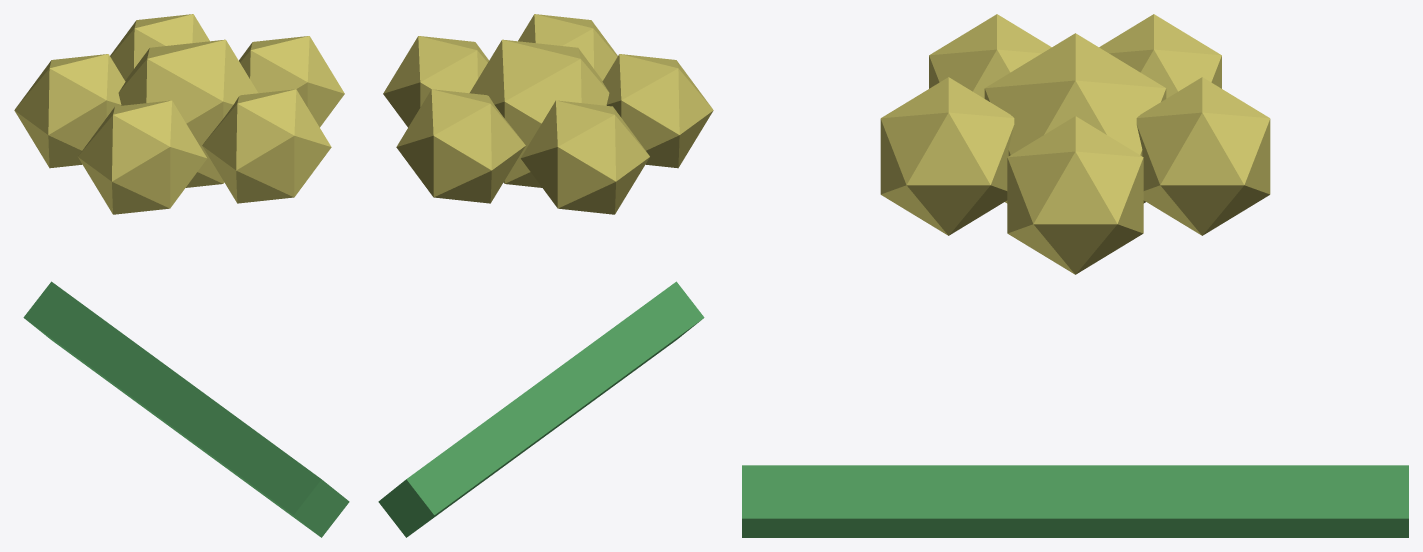
File: flower_yellow.glb
3 renders of one model, left to right at view 1: azimuth 30°, elevation 25°; view 2: azimuth 150°, elevation 25°; view 3: azimuth 270°, elevation 25°, orthographic. The views are drawn at different scales.
Visible parts, largest first — view 1: world; view 2: world; view 3: world.
Part boxes in pixels (<box>): world: <box>14,14,349,537</box>; world: <box>378,14,713,537</box>; world: <box>742,14,1408,537</box>.
Bounding box in the file's own units: 0.283 × 0.3981 × 0.5.
